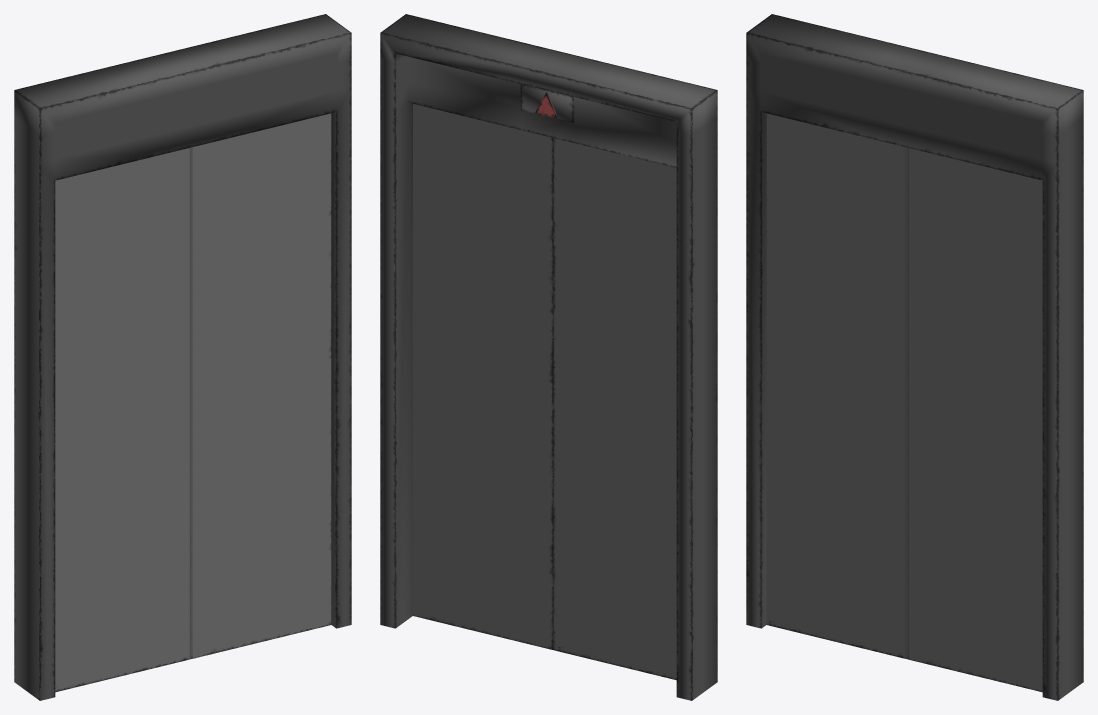
File: SM_Elevator_.fbx
3 renders of one model, left to right at view 1: azimuth 30°, elevation 25°; view 2: azimuth 150°, elevation 25°; view 3: azimuth 330°, elevation 25°, orthographic.
Visible parts, largest first — view 1: SM_Floor_SideWall.011; view 2: SM_Floor_SideWall.011; view 3: SM_Floor_SideWall.011.
Part boxes in pixels (box(x1,y1,x2,y2)): SM_Floor_SideWall.011: box(14, 14, 351, 700); SM_Floor_SideWall.011: box(380, 14, 717, 700); SM_Floor_SideWall.011: box(746, 14, 1083, 700).
Bounding box in the file's own units: 154 × 280 × 22.12.
